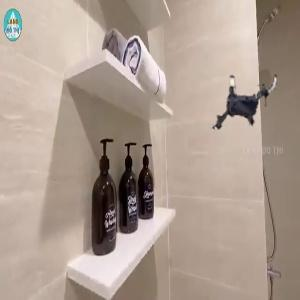drone: (203, 63, 286, 146)
